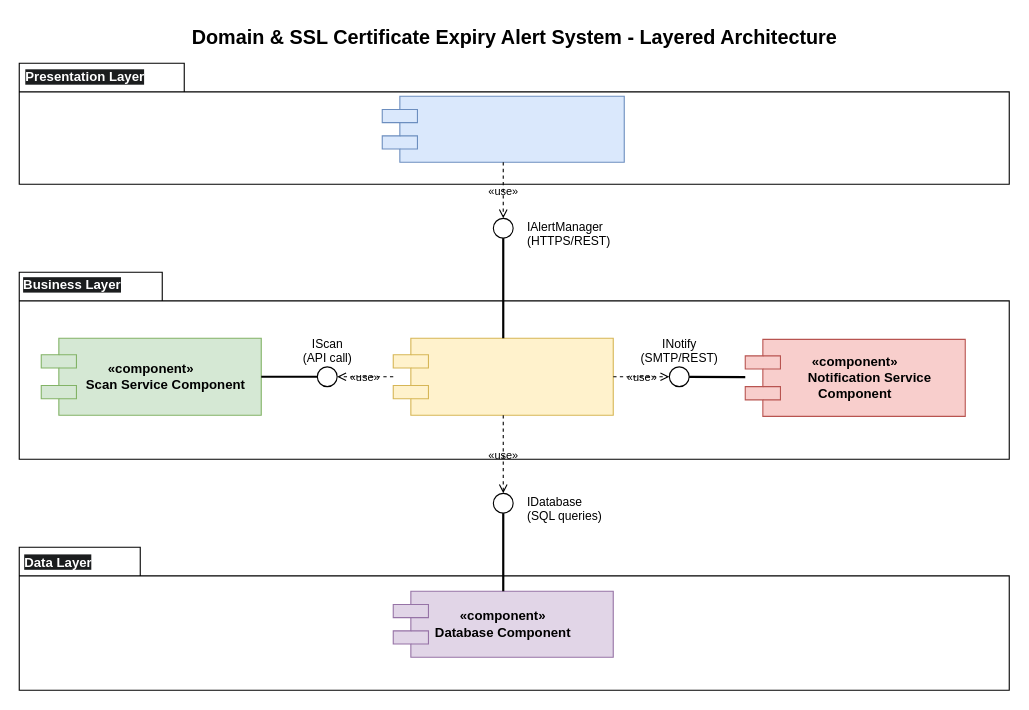
Some shapes in this 1029 by 710 pixel diagram are drawn without their labels. Each missing label, with the centre of its shape:
"«component» Alert Manager Component" goes at point (502, 376).
"«component» Web Dashboard Component" goes at point (502, 128).
